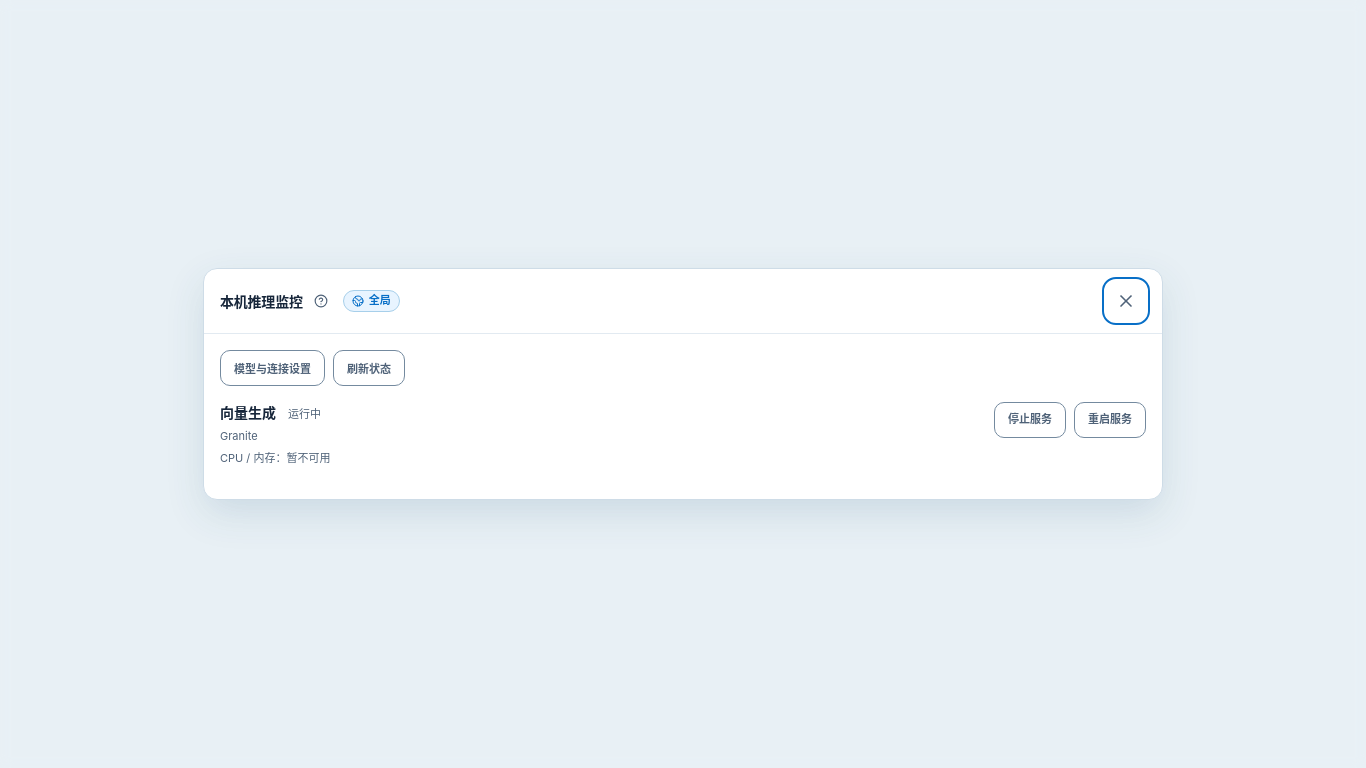
Test case: LocalInferencePage › blocks service actions on stale data until refresh succeeds
Expected: the heading "向量生成" is shown, [220,402,276,424]
What coordinates should you click on to do the following:
click the button "刷新状态"
I would click on:
 (369, 368)
Its box is [333,350,405,386].
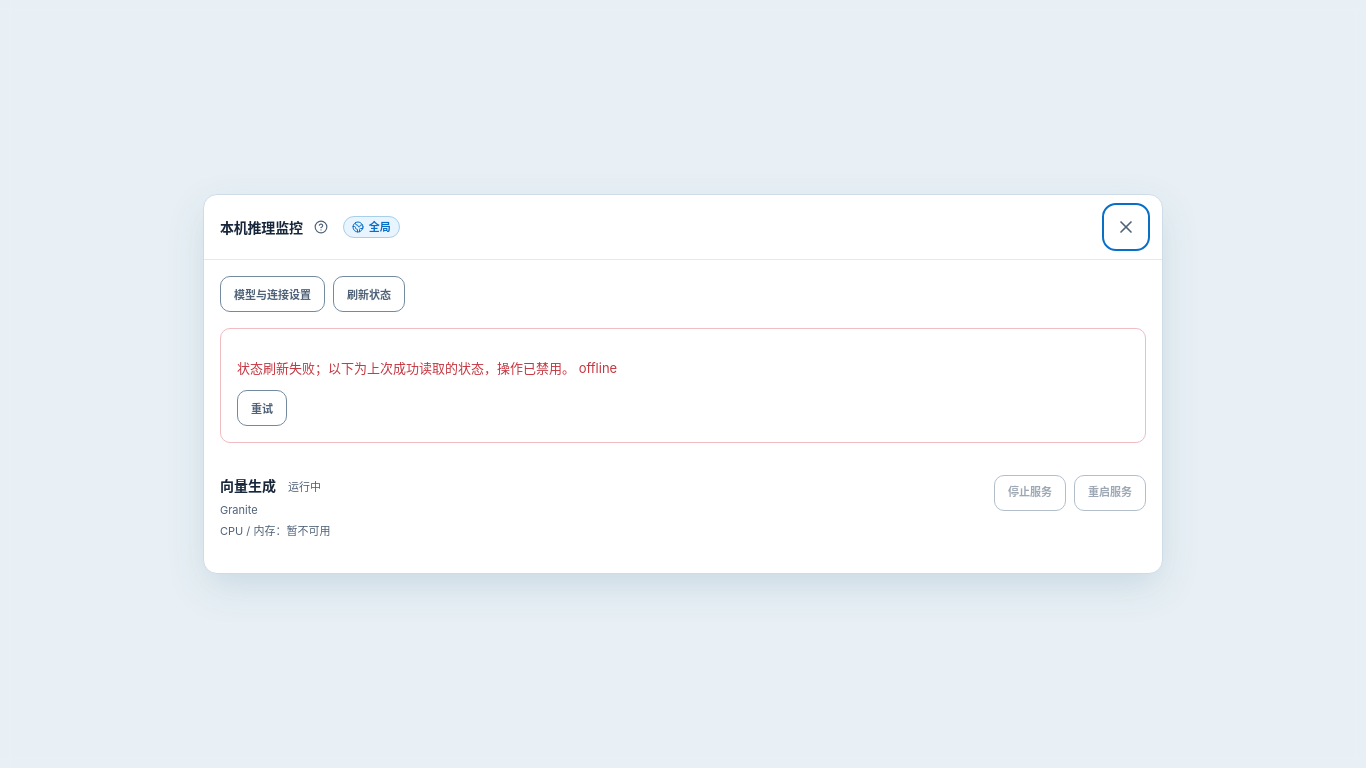
Now the message shows "上次成功读取", box [237,360,575,376]
Now the button "停止服务" is disabled, box [994,475,1066,511]
What coordinates should you click on to do the following:
click the button "重试"
I would click on:
 (262, 408)
Its box is [237,390,287,426].
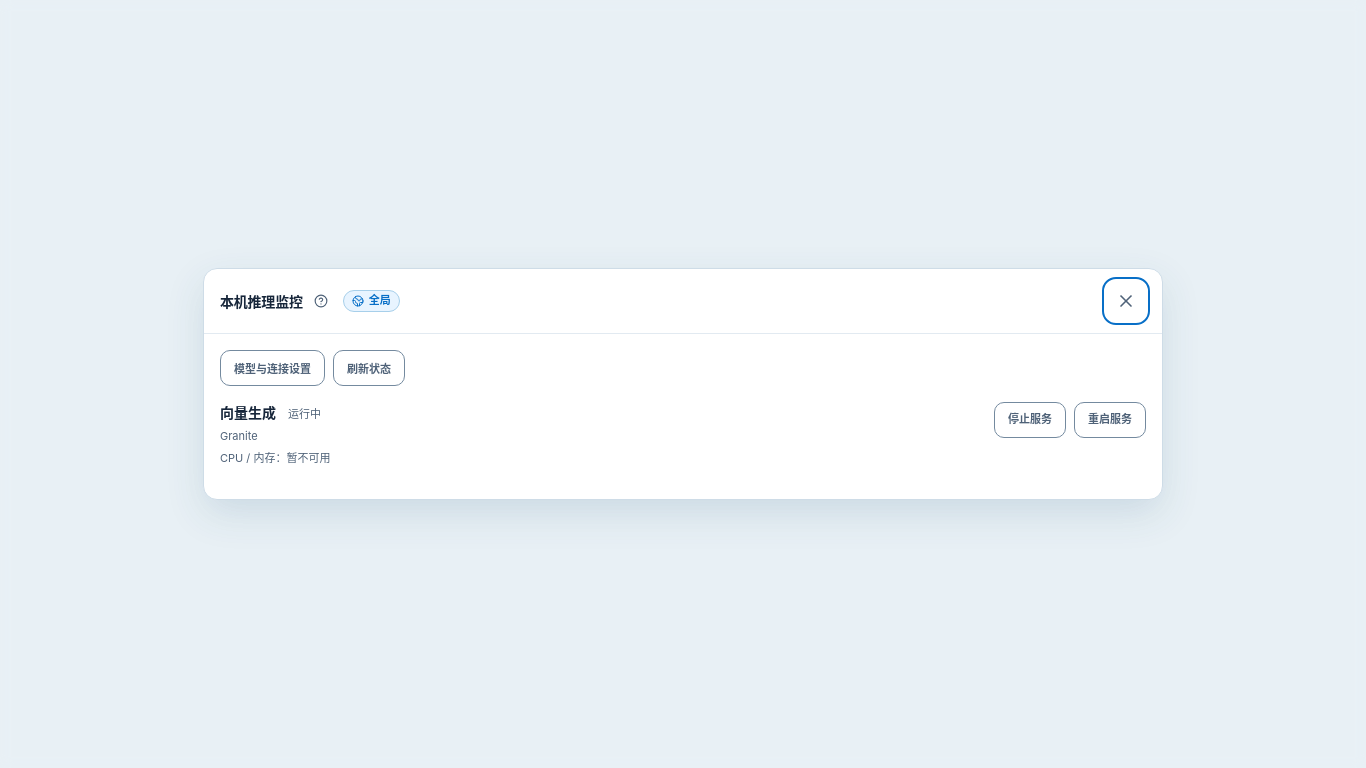
Now the button "停止服务" is enabled, box [994,402,1066,438]
